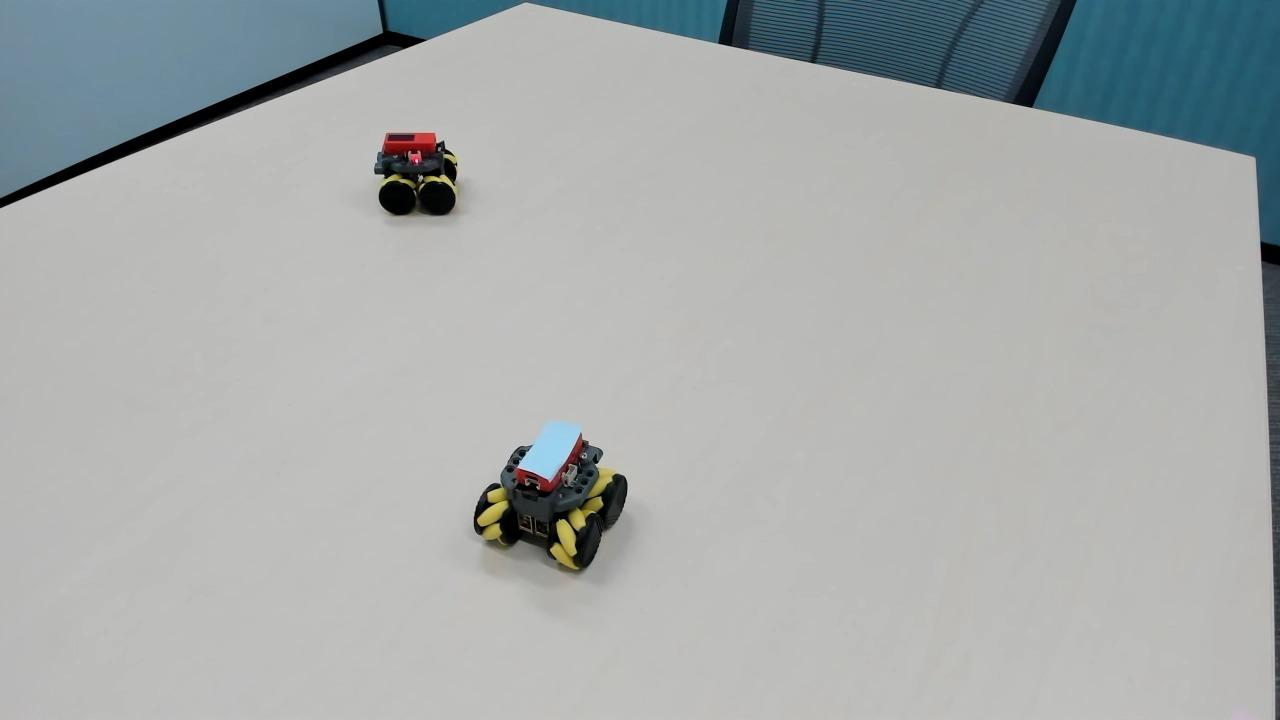B-Robot: (474, 413, 635, 586)
R-Robot: (360, 120, 472, 232)
